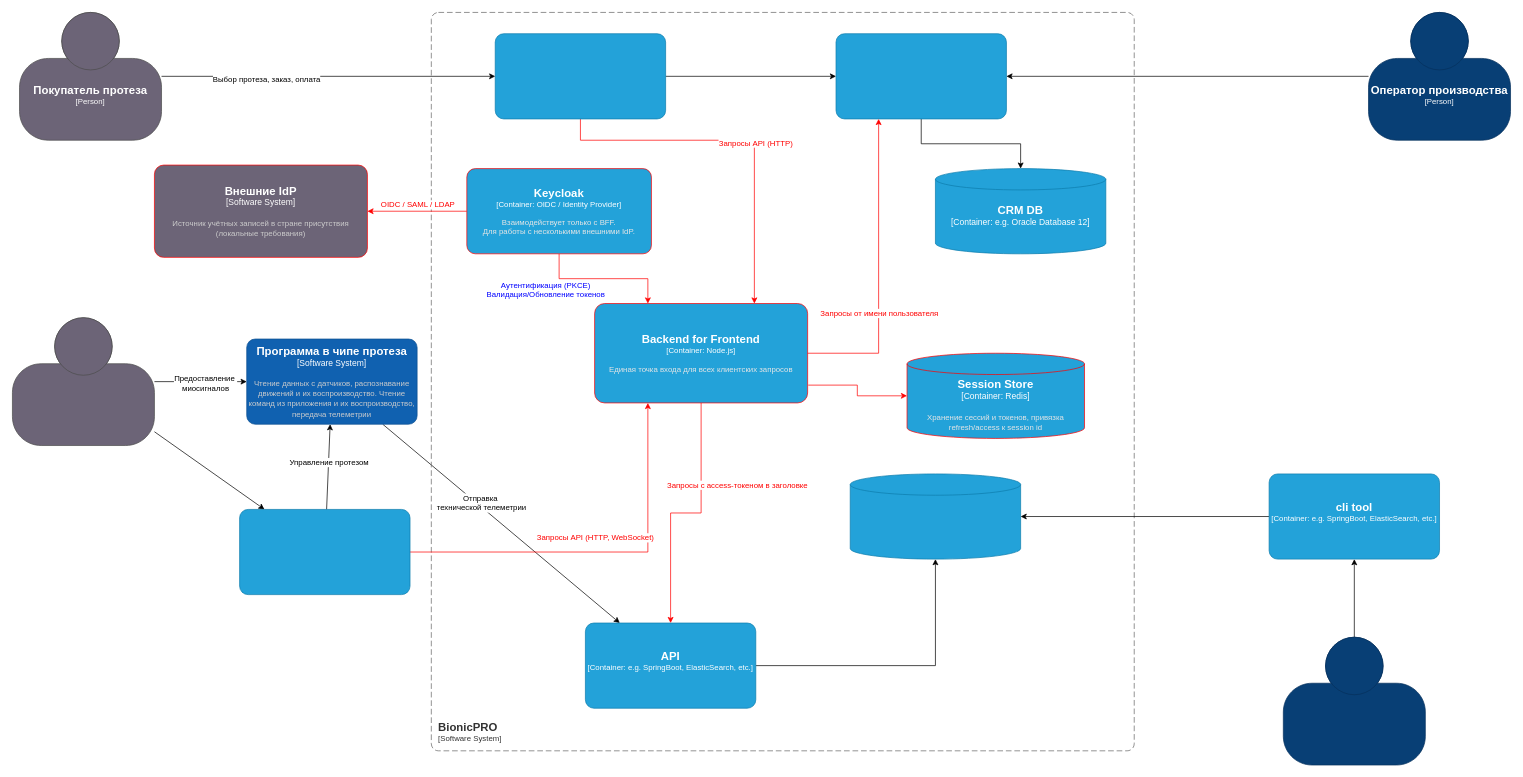
Image size: 1523x777. Some labels were removed from this diagram. Here are the shapes that lost their labels. From the top down, the centre of each, then its label:
At [580,76]: "Интернет-магазин [Container: Битрикс24]".
At [920,76]: "CRM [Container: Битрикс24]".
At [83,381]: "Пилот протеза [Person] С этого человека считываются данные".
At [935,516]: "База данных [Container: PostgreSQL]".
At [324,552]: "Приложение для донастройки протеза [Container: iOD, Android]".
At [1354,701]: "ML-инженер [Person]".
